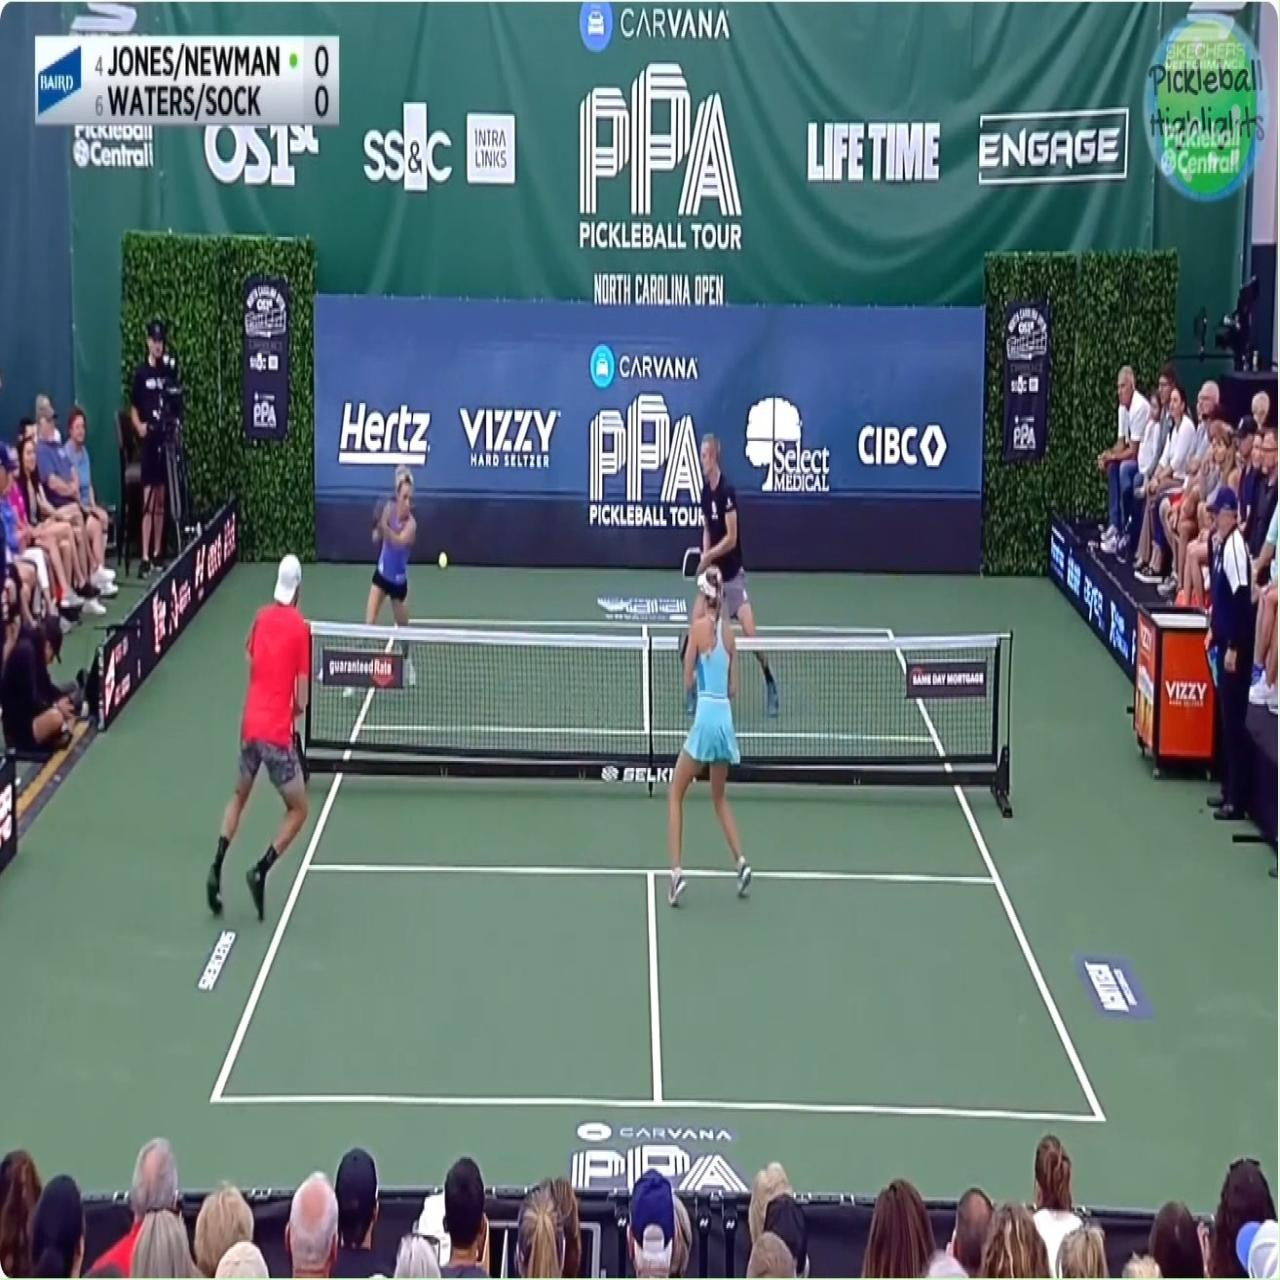pickleball: (437, 551, 448, 568)
